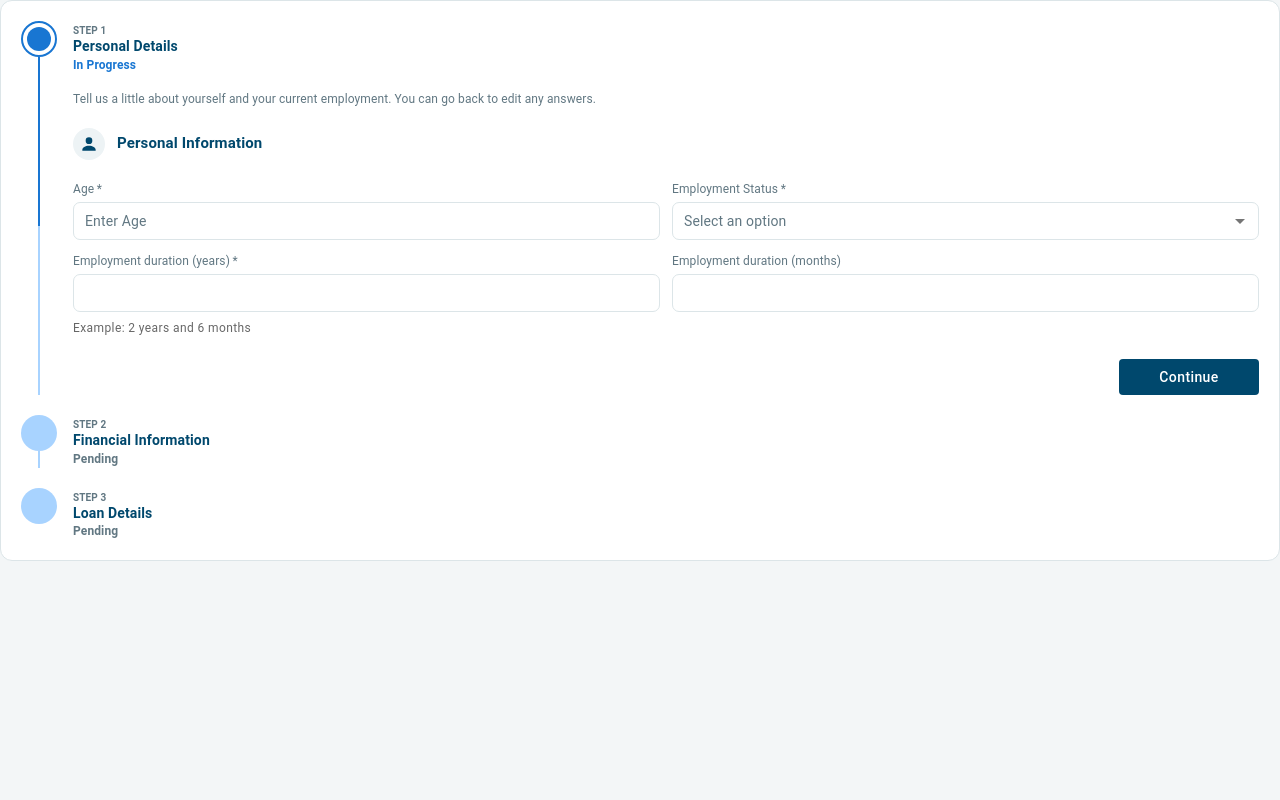
Test: Loan Eligibility Page Form › prevents submission and shows validation feedback for invalid values
Step 1. Type "17" into the number field labelled "Age" → [366, 221], box [73,202,660,240]
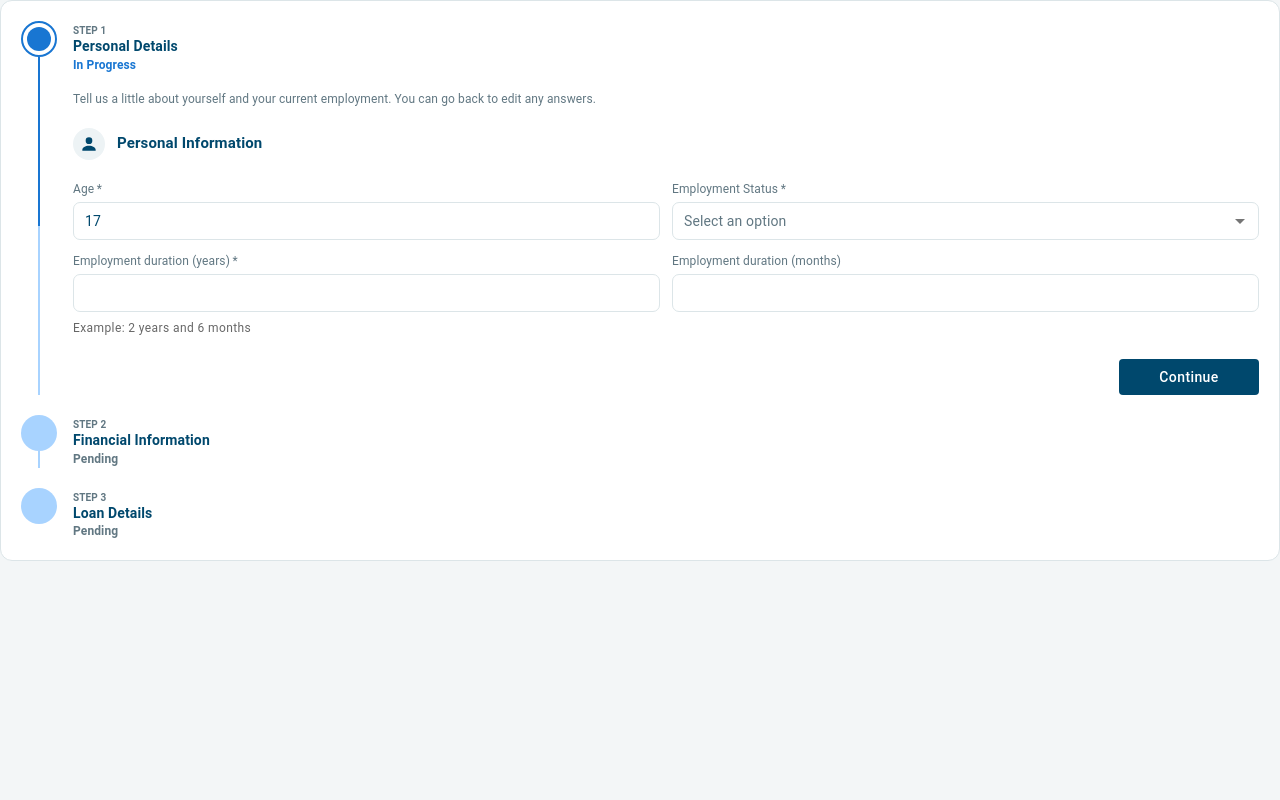
Step 2. Submit the form named "Loan eligibility application"
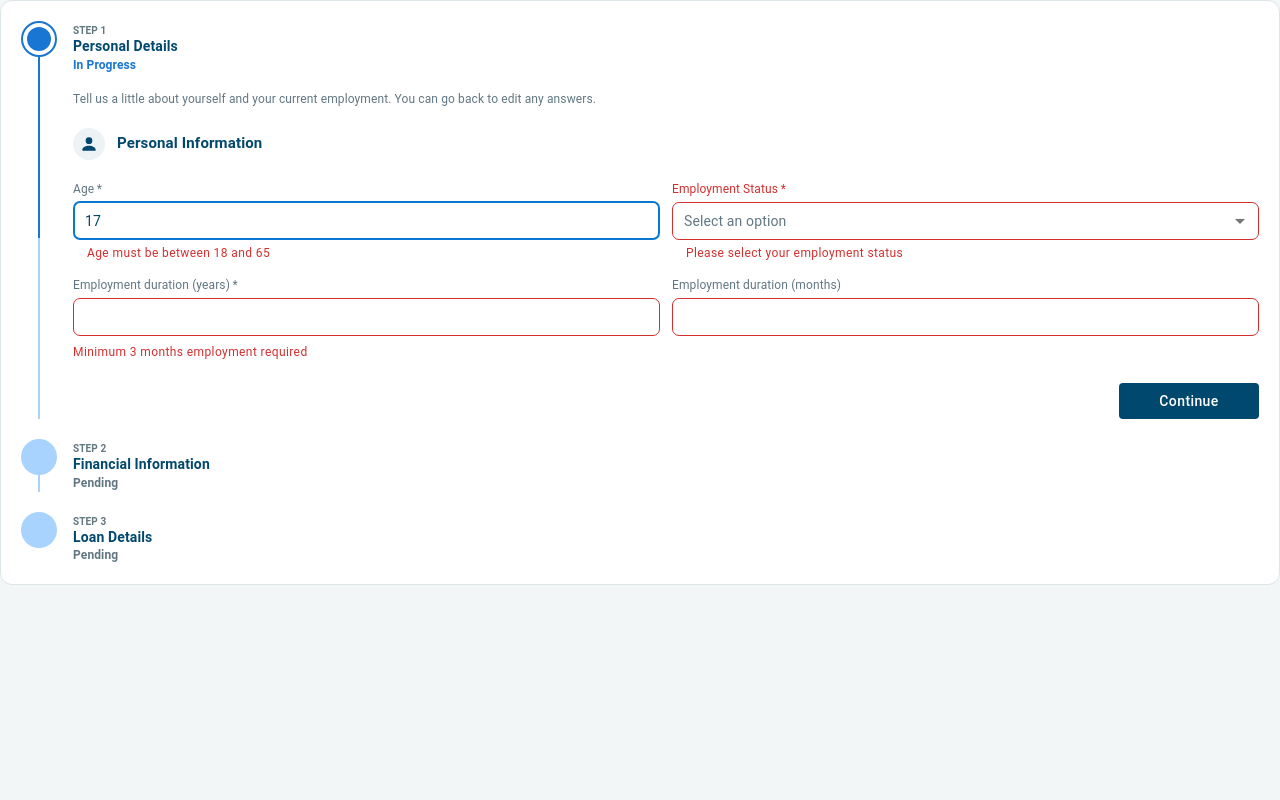
Now the text "Age must be between 18 and 65" is shown, box [87,246,270,260]
